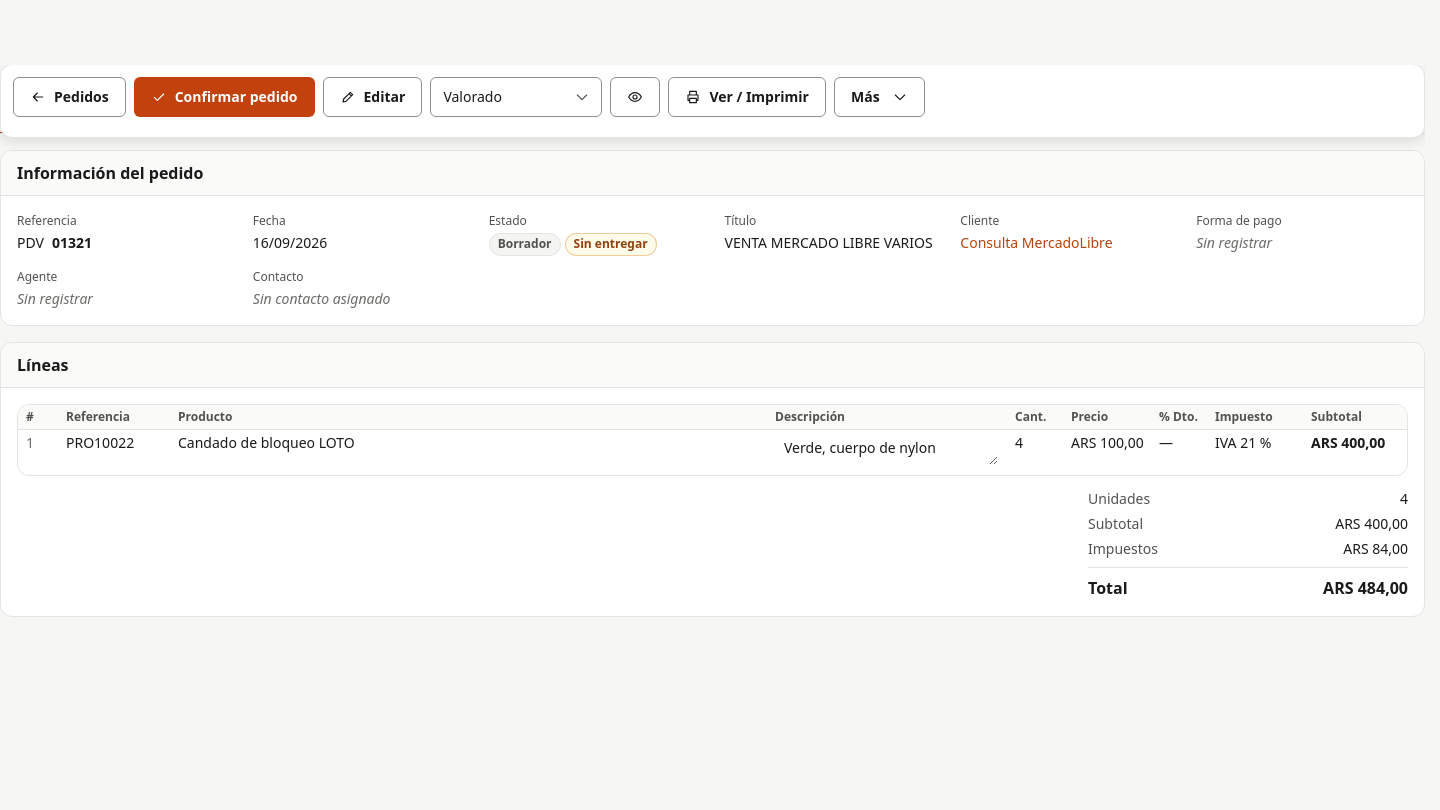
Test case: Pedido · edición por borrador › NO se escribe nada hasta apretar Guardar
Click the button "Editar". click: (372, 97)
box: [322,77,422,117]
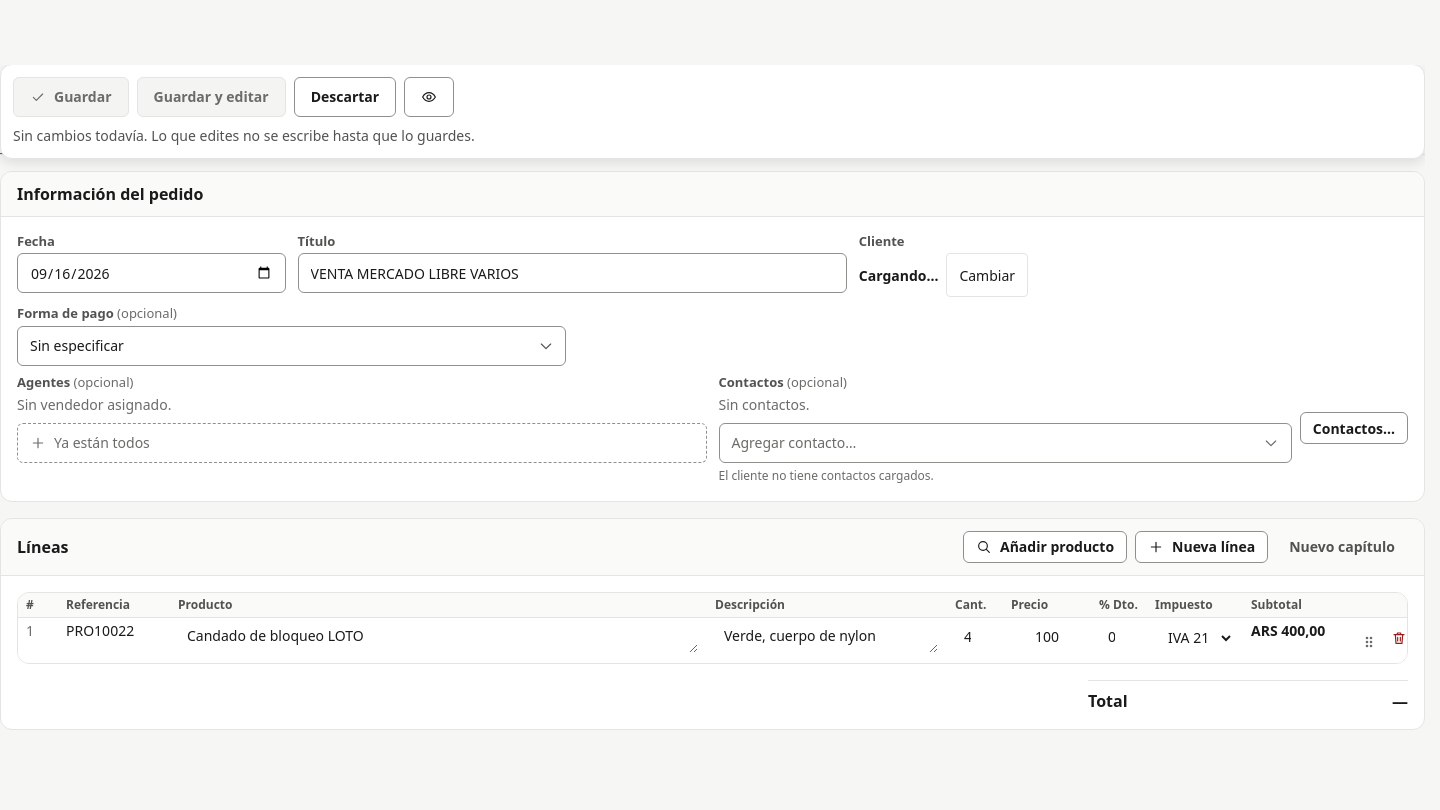
Replace the text in the field labelled "Título" with "ZZ nuevo título". click: (572, 273)
box: [298,253,847,293]
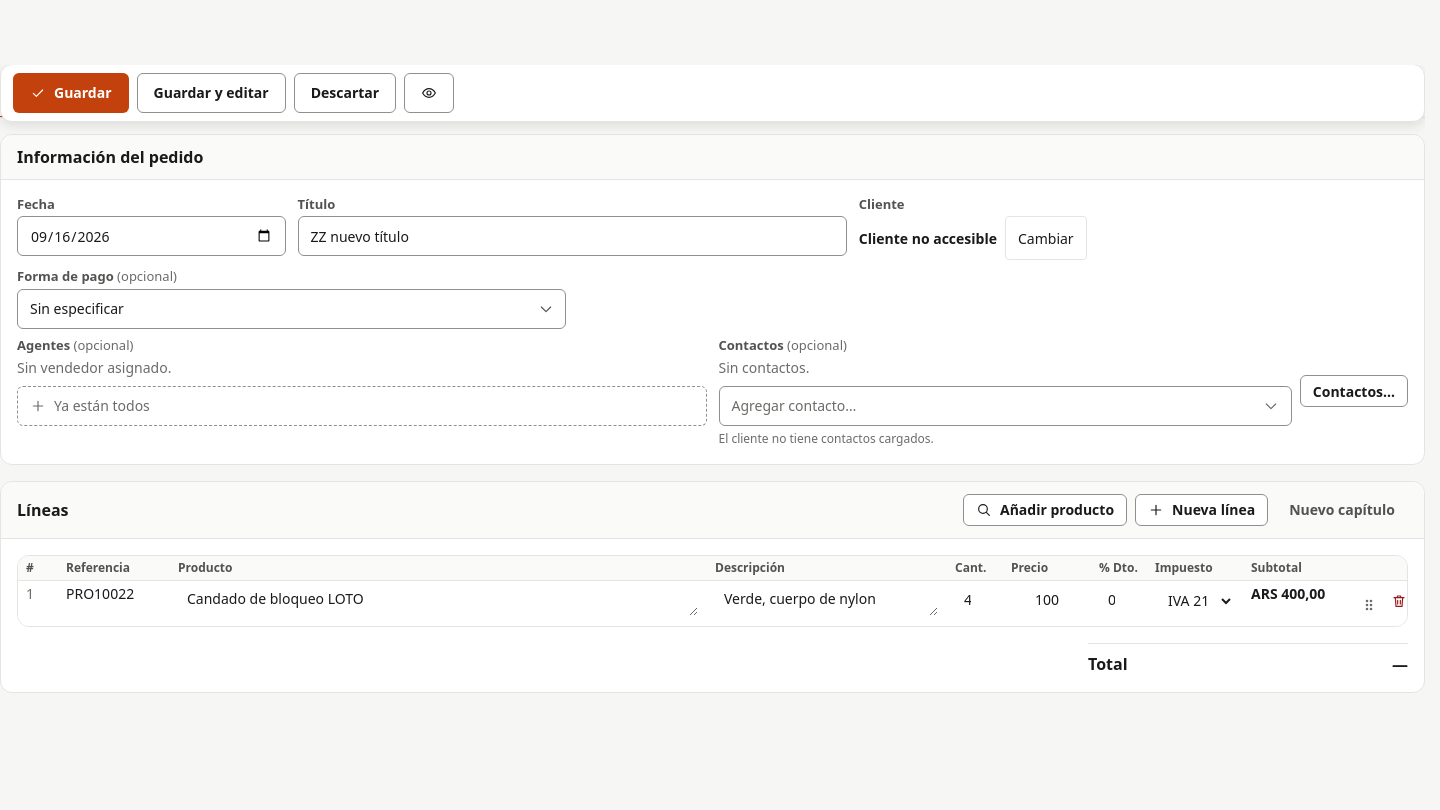
Check: the button "Guardar" is enabled, box [13,73,128,113]
